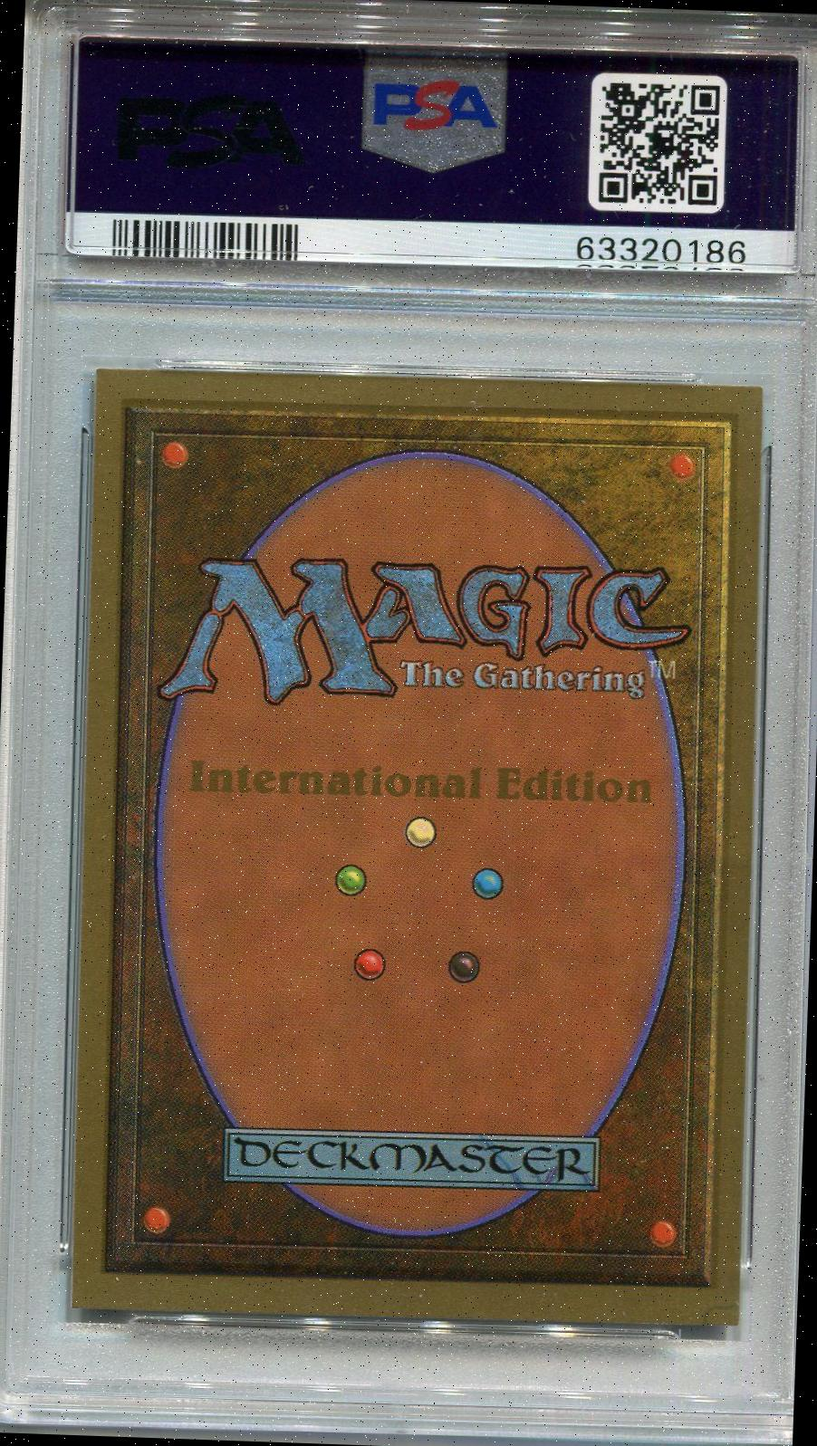card-2UtV: (70, 367, 763, 1326)
